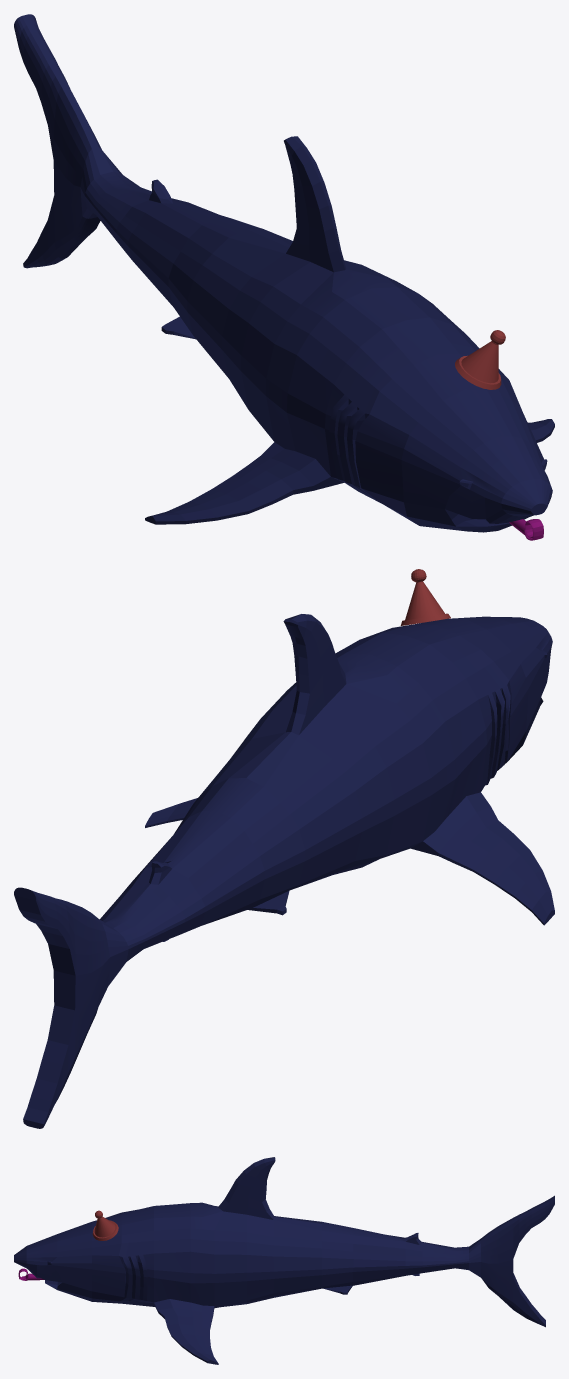
File: sharkadoo.obj
3 views of the same model, one above another, from view 1: azimuth 30°, elevation 25°; view 2: azimuth 150°, elevation 25°; view 3: azimuth 270°, elevation 25° (orthographic). The views are drawn at different scales.
Parts seen in each view (by area): view 1: pCube1 pCube1SmoothProxyGroup, birthdayHat_GEO; view 2: pCube1 pCube1SmoothProxyGroup, birthdayHat_GEO; view 3: pCube1 pCube1SmoothProxyGroup, birthdayHat_GEO.
Boxes of the visible parts, box(x1,y1,x2,y2) form: pCube1 pCube1SmoothProxyGroup: box(14, 14, 554, 532); birthdayHat_GEO: box(455, 330, 505, 389); pCube1 pCube1SmoothProxyGroup: box(14, 614, 554, 1128); birthdayHat_GEO: box(400, 569, 450, 625); pCube1 pCube1SmoothProxyGroup: box(14, 1157, 554, 1364); birthdayHat_GEO: box(92, 1210, 118, 1240).
Size of the model in its own units: 2.6 by 1.99 by 5.8.
